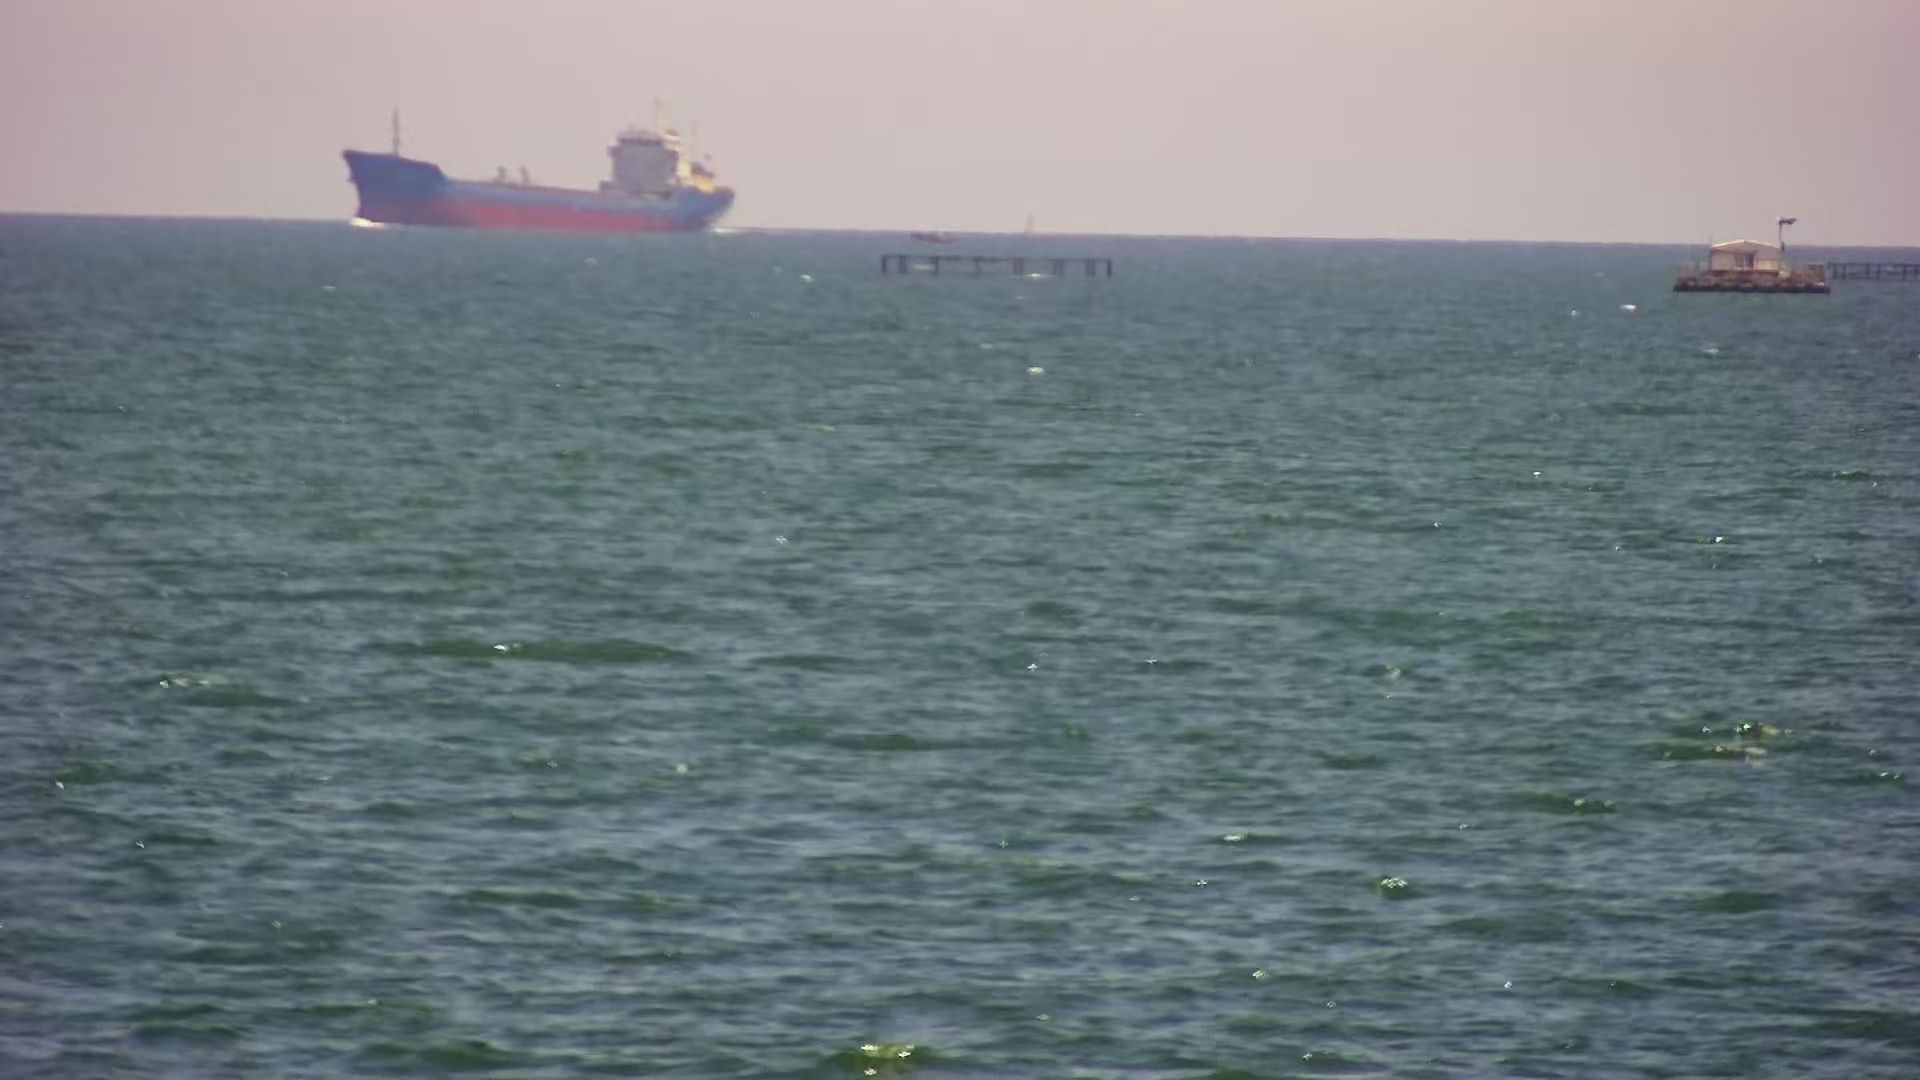boat: (901, 218, 975, 247)
platform: (877, 200, 1149, 287), (1665, 208, 1836, 301), (1818, 244, 1920, 293)
ship: (314, 96, 777, 247)
